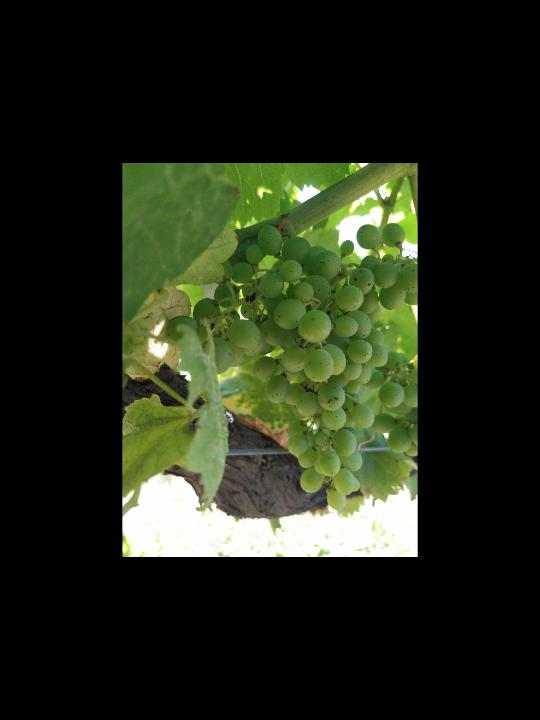grape: (160, 222, 415, 513)
